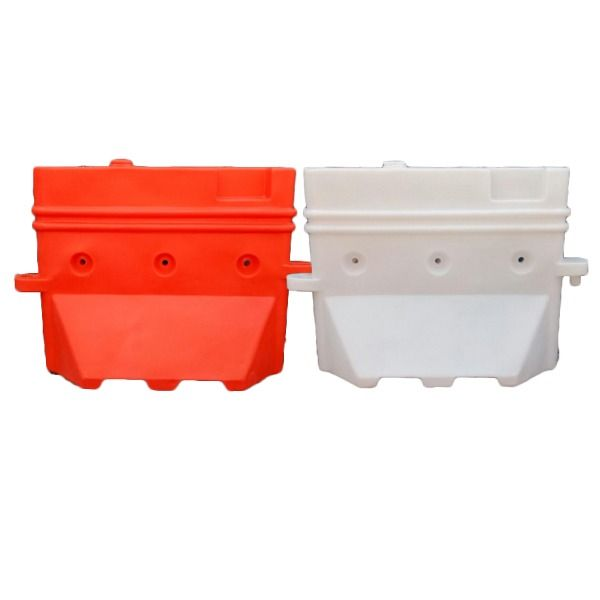Barrier: (10, 153, 590, 405)
